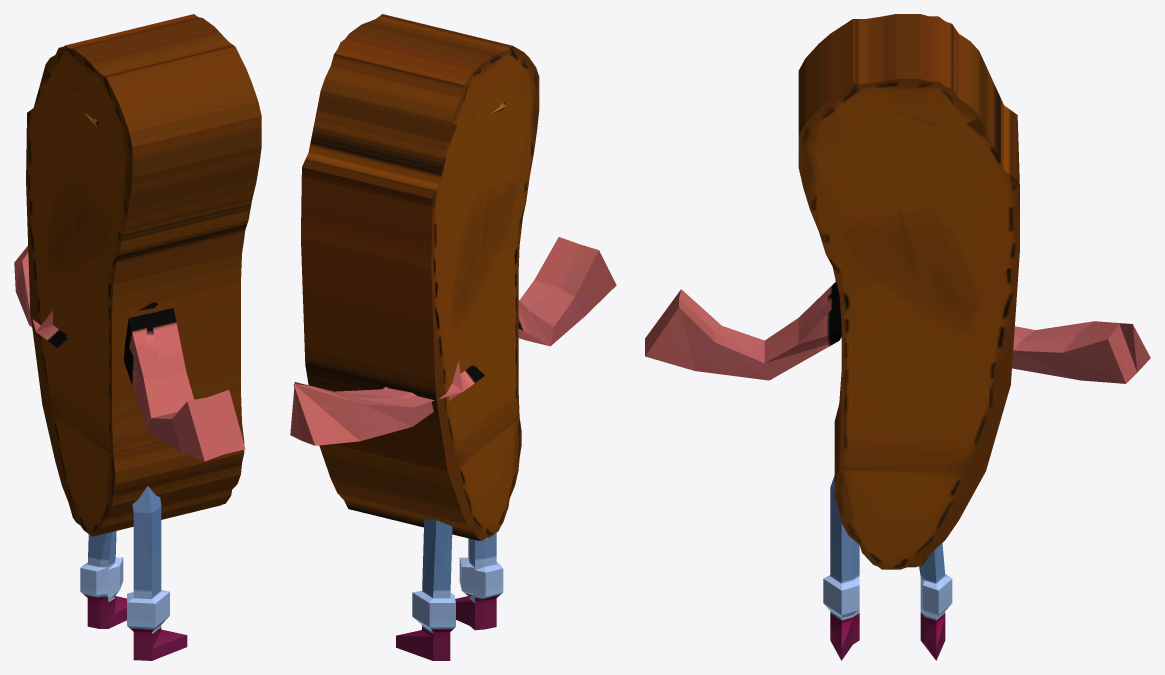
The model's file is KvcLace.glb.
The picture shows the model from 3 angles, left to right: view 1: azimuth 30°, elevation 25°; view 2: azimuth 150°, elevation 25°; view 3: azimuth 270°, elevation 25°; orthographic projection. The views are drawn at different scales.
Parts seen in each view (by area): view 1: KvcLace; view 2: KvcLace; view 3: KvcLace.
Boxes of the visible parts, <box> form: KvcLace: <box>14,14,261,660</box>; KvcLace: <box>290,14,616,660</box>; KvcLace: <box>645,14,1150,660</box>.
Bounding box in the file's own units: 23.07 × 92.86 × 69.88.
Materials: 1 (1 with a texture image).
